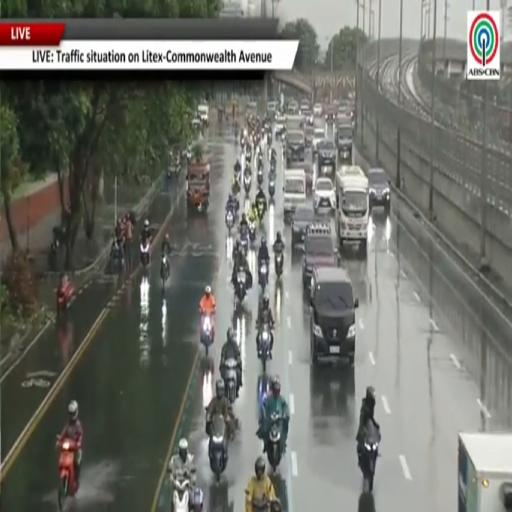car: (309, 267, 358, 364), (302, 222, 338, 289), (291, 205, 314, 248), (368, 168, 390, 212), (314, 177, 336, 213), (318, 138, 336, 170), (313, 127, 325, 152), (197, 104, 209, 125), (302, 108, 314, 126), (313, 103, 322, 117)
motorcycle: (58, 439, 77, 510), (209, 415, 227, 482), (361, 429, 380, 492), (267, 412, 282, 471), (258, 325, 272, 373), (224, 358, 238, 404), (173, 476, 190, 511), (200, 314, 213, 357), (258, 373, 270, 418), (235, 269, 247, 309), (110, 240, 123, 274), (259, 261, 268, 293), (161, 254, 169, 286), (140, 239, 149, 266), (275, 252, 283, 279), (240, 231, 248, 257), (226, 210, 234, 233), (248, 222, 256, 245), (257, 201, 264, 222), (244, 174, 251, 194), (268, 180, 275, 199), (257, 166, 263, 185), (270, 158, 276, 174), (258, 153, 263, 171), (267, 129, 272, 146), (246, 151, 251, 164)
truck: (458, 432, 511, 511), (335, 166, 369, 253), (283, 169, 306, 220), (285, 116, 305, 167)
